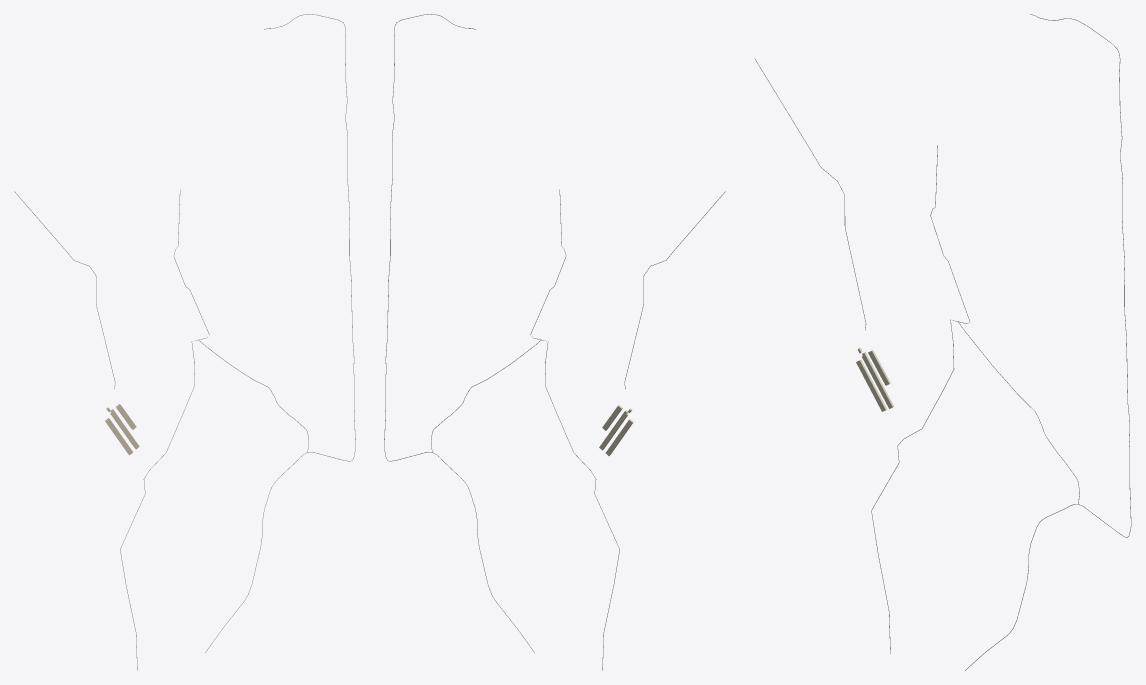
The model's file is historic-palestine-12_31_3536_3258.glb.
3 views of the same model, side by side, from view 1: azimuth 30°, elevation 25°; view 2: azimuth 150°, elevation 25°; view 3: azimuth 330°, elevation 25° (orthographic). The views are drawn at different scales.
Parts seen in each view (by area): view 1: Road .002, Road; view 2: Road .002, Road; view 3: Road .002, Road.
Part boxes in pixels (x1,y1,x2,y2): Road .002: [205, 14, 355, 652]; Road: [120, 189, 209, 670]; Road .002: [384, 14, 534, 652]; Road: [530, 189, 619, 670]; Road .002: [965, 14, 1131, 670]; Road: [871, 145, 969, 653].
Size of the model in its own units: 1198 by 2062 by 8.7.
